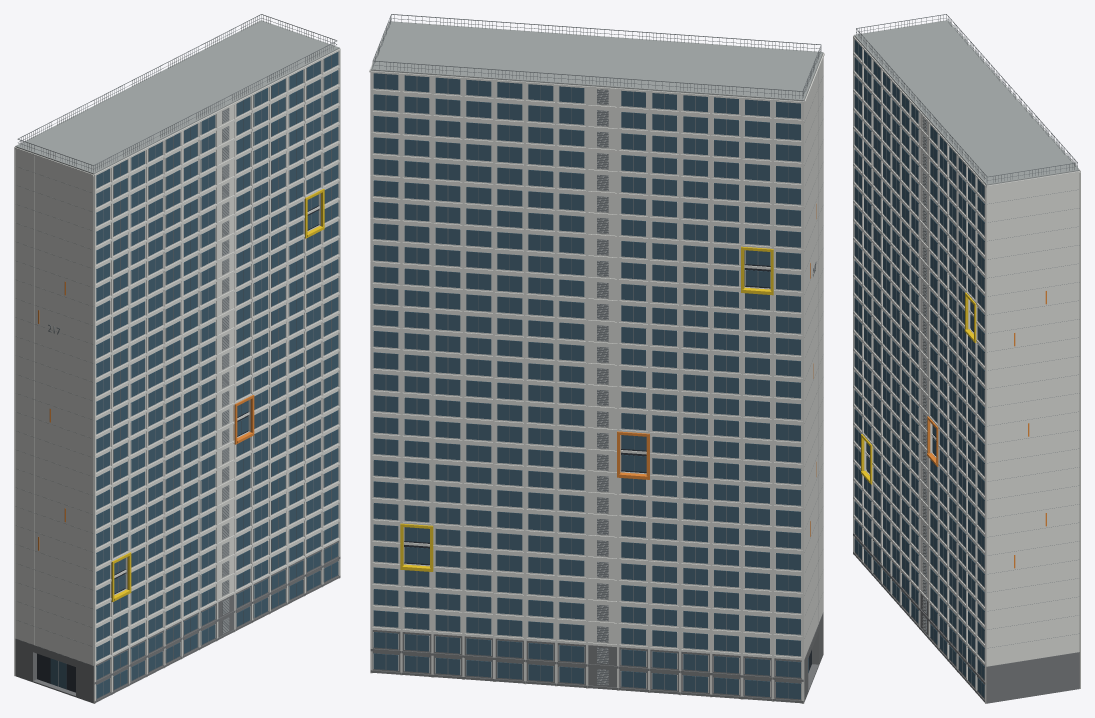
The model's file is bespoke-songpa-helio-city-217.glb.
3 views of the same model, side by side, from view 1: azimuth 30°, elevation 25°; view 2: azimuth 150°, elevation 25°; view 3: azimuth 270°, elevation 25° (orthographic). The views are drawn at different scales.
Visible parts, largest first — view 1: Helio217_editable_Helio217_white_slab_frames, Helio217_editable_Helio217_dark_blue_grey_glazing, Helio217_editable_Helio217_low_roof_deck, Helio217_editable_Helio217_grey_service_grille, Helio217_editable_Helio217_dark_grey_twofloor_base, Helio217_editable_Helio217_blankwall_grey_panels, Helio217_editable_Helio217_yellow_projecting_rectangular_fra, Helio217_editable_Helio217_deep_shaded_frame_recess, Helio217_editable_Helio217_orange_narrow_accent; view 2: Helio217_editable_Helio217_dark_blue_grey_glazing, Helio217_editable_Helio217_white_slab_frames, Helio217_editable_Helio217_low_roof_deck, Helio217_editable_Helio217_grey_service_grille, Helio217_editable_Helio217_dark_grey_twofloor_base, Helio217_editable_Helio217_blankwall_grey_panels, Helio217_editable_Helio217_yellow_projecting_rectangular_fra, Helio217_editable_Helio217_orange_narrow_accent; view 3: Helio217_editable_Helio217_white_slab_frames, Helio217_editable_Helio217_dark_blue_grey_glazing, Helio217_editable_Helio217_low_roof_deck, Helio217_editable_Helio217_grey_service_grille, Helio217_editable_Helio217_dark_grey_twofloor_base, Helio217_editable_Helio217_blankwall_grey_panels, Helio217_editable_Helio217_yellow_projecting_rectangular_fra, Helio217_editable_Helio217_orange_narrow_accent.
Part boxes in pixels (<box>): Helio217_editable_Helio217_white_slab_frames: <box>14,48,340,703</box>; Helio217_editable_Helio217_dark_blue_grey_glazing: <box>50,52,338,698</box>; Helio217_editable_Helio217_low_roof_deck: <box>15,20,339,174</box>; Helio217_editable_Helio217_grey_service_grille: <box>15,14,337,695</box>; Helio217_editable_Helio217_dark_grey_twofloor_base: <box>15,541,340,703</box>; Helio217_editable_Helio217_blankwall_grey_panels: <box>34,108,228,644</box>; Helio217_editable_Helio217_yellow_projecting_rectangular_fra: <box>111,189,324,601</box>; Helio217_editable_Helio217_deep_shaded_frame_recess: <box>37,205,318,692</box>; Helio217_editable_Helio217_orange_narrow_accent: <box>38,281,254,550</box>; Helio217_editable_Helio217_dark_blue_grey_glazing: <box>373,73,808,699</box>; Helio217_editable_Helio217_white_slab_frames: <box>369,22,824,703</box>; Helio217_editable_Helio217_low_roof_deck: <box>370,21,823,101</box>; Helio217_editable_Helio217_grey_service_grille: <box>372,14,823,698</box>; Helio217_editable_Helio217_dark_grey_twofloor_base: <box>370,613,823,703</box>; Helio217_editable_Helio217_blankwall_grey_panels: <box>597,70,818,684</box>; Helio217_editable_Helio217_yellow_projecting_rectangular_fra: <box>400,246,773,571</box>; Helio217_editable_Helio217_orange_narrow_accent: <box>617,204,816,536</box>; Helio217_editable_Helio217_white_slab_frames: <box>853,24,1080,703</box>; Helio217_editable_Helio217_dark_blue_grey_glazing: <box>854,39,984,698</box>; Helio217_editable_Helio217_low_roof_deck: <box>854,20,1079,185</box>; Helio217_editable_Helio217_grey_service_grille: <box>856,14,1079,694</box>; Helio217_editable_Helio217_dark_grey_twofloor_base: <box>853,519,1079,703</box>; Helio217_editable_Helio217_blankwall_grey_panels: <box>922,116,926,631</box>; Helio217_editable_Helio217_yellow_projecting_rectangular_fra: <box>861,292,977,484</box>; Helio217_editable_Helio217_orange_narrow_accent: <box>927,291,1046,568</box>.
Bounding box in the file's own units: 53.51 × 79.4 × 31.15.
